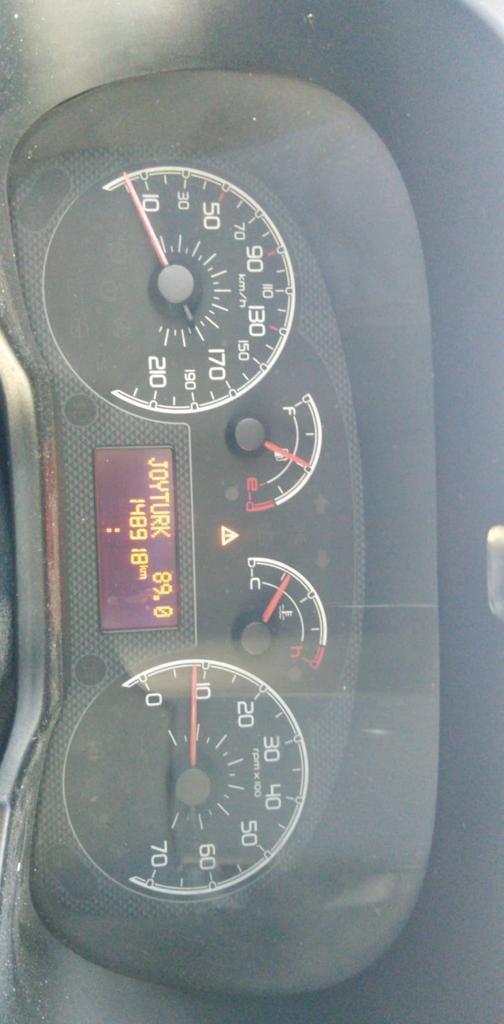,: (151, 594, 160, 601)
0: (153, 605, 173, 617)
1: (129, 547, 147, 552), (128, 498, 145, 503)
4: (129, 503, 145, 515)
8: (129, 552, 148, 565), (151, 571, 171, 583), (128, 515, 146, 527)
9: (129, 527, 147, 540), (152, 583, 172, 594)
X: (150, 525, 171, 538), (149, 514, 170, 526), (149, 502, 169, 514), (148, 491, 169, 502), (148, 480, 169, 491), (147, 457, 168, 468), (148, 469, 168, 480), (105, 527, 120, 533), (139, 570, 147, 580), (138, 564, 148, 571)
odometer: (90, 444, 181, 635)
